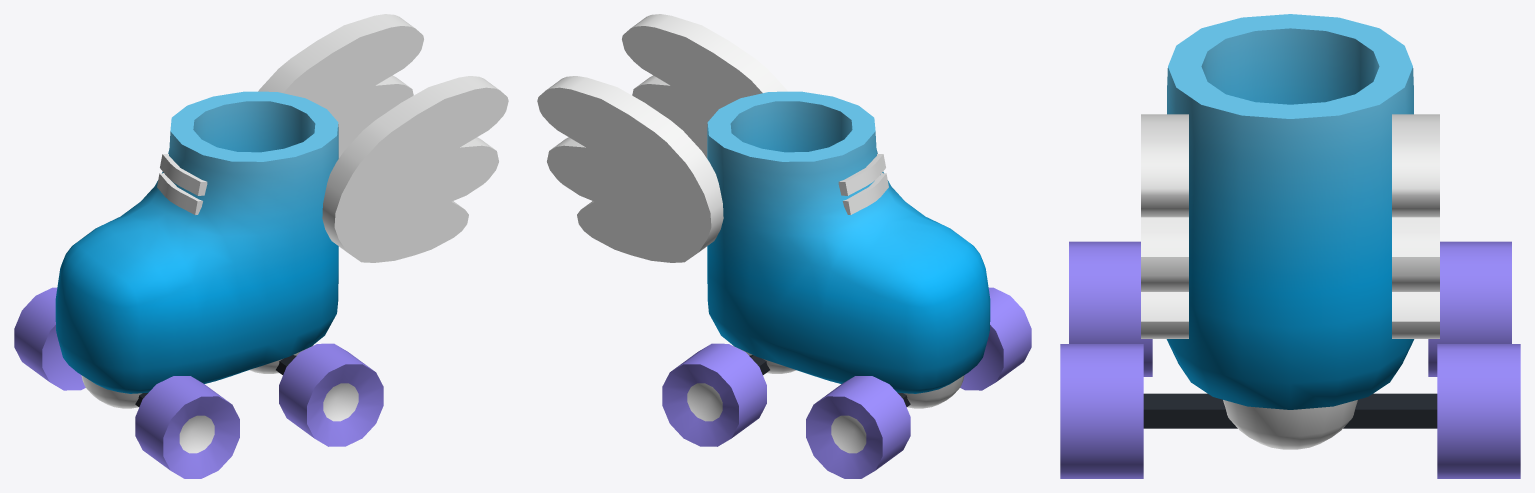
File: Wing_Shoe.fbx
3 renders of one model, left to right at view 1: azimuth 30°, elevation 25°; view 2: azimuth 150°, elevation 25°; view 3: azimuth 270°, elevation 25°, orthographic. The views are drawn at different scales.
Parts seen in each view (by area): view 1: Collectable_Wing_Shoe_01; view 2: Collectable_Wing_Shoe_01; view 3: Collectable_Wing_Shoe_01.
Boxes of the visible parts, x1,y1,x2,y2 form: Collectable_Wing_Shoe_01: (14, 14, 508, 478); Collectable_Wing_Shoe_01: (537, 14, 1031, 478); Collectable_Wing_Shoe_01: (1060, 14, 1520, 478).
Size of the model in its own units: 65.06 by 48.05 by 45.11.
Materials: 1 (1 with a texture image).
